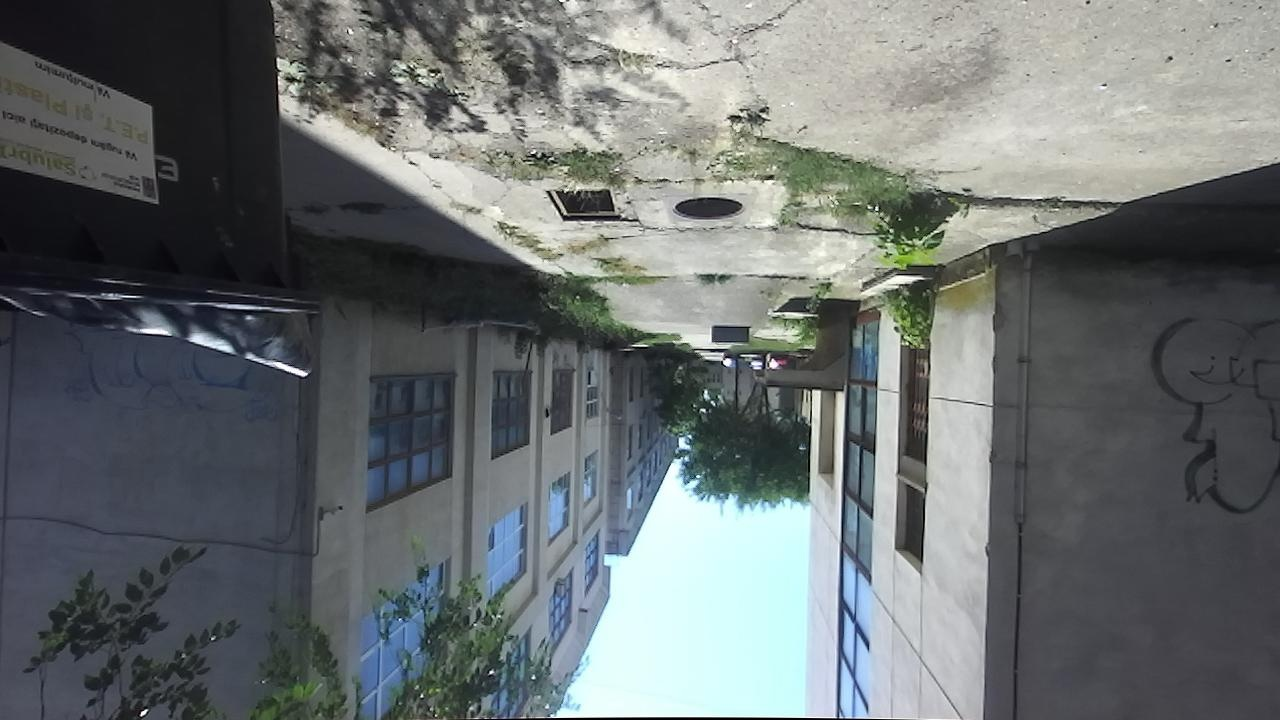drain: (539, 185, 624, 228), (670, 195, 743, 229)
